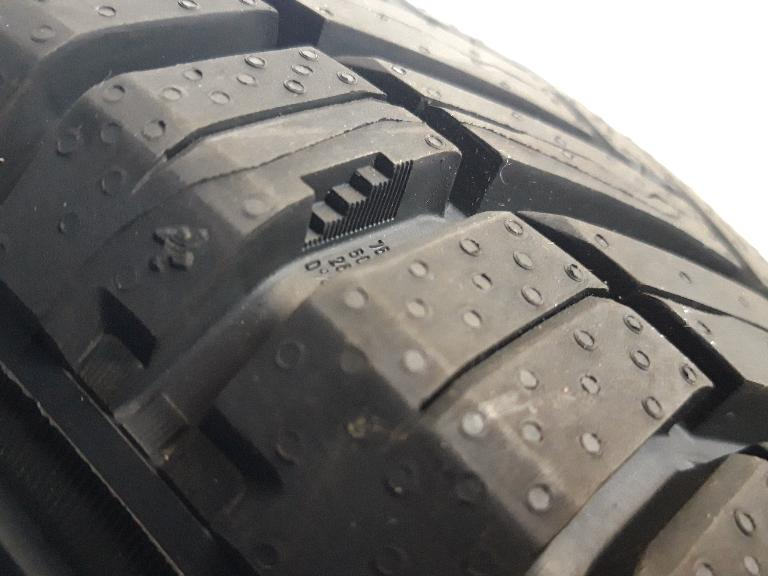temoin:100: (298, 149, 416, 253)
